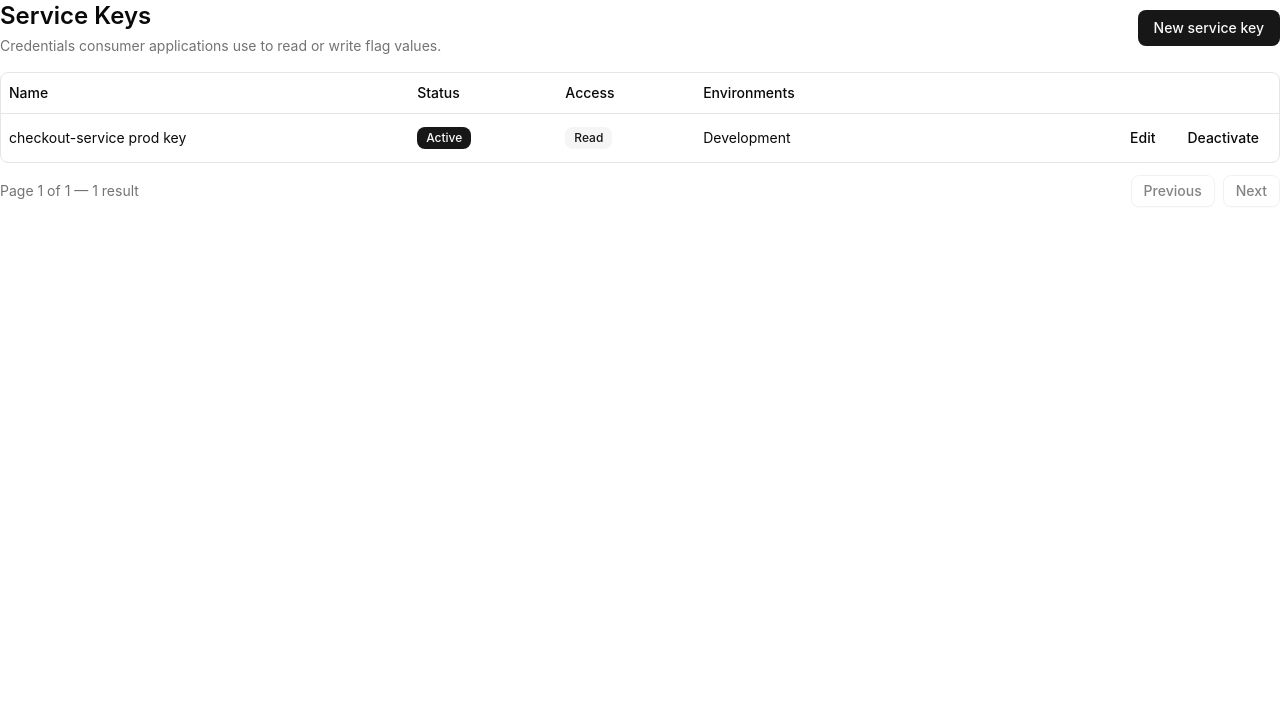
Test: ServiceKeysPage › opens the create form from "New service key" and the edit form from a row's Edit button
Step 1. Click the button "New service key" → (1209, 28), box [1138,10,1279,46]
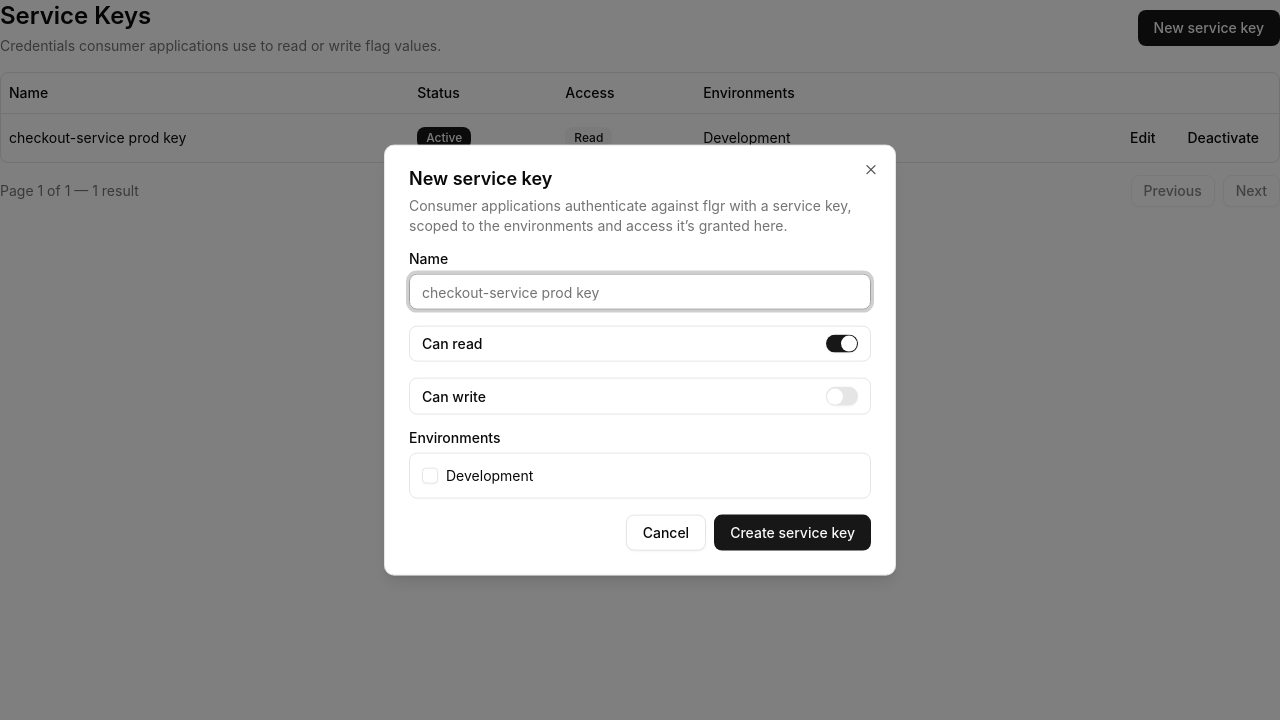
Now the heading "New service key" is shown, box [409,168,552,189]
Step 2. Click the button "Cancel" → (666, 532), box [626,514,706,550]
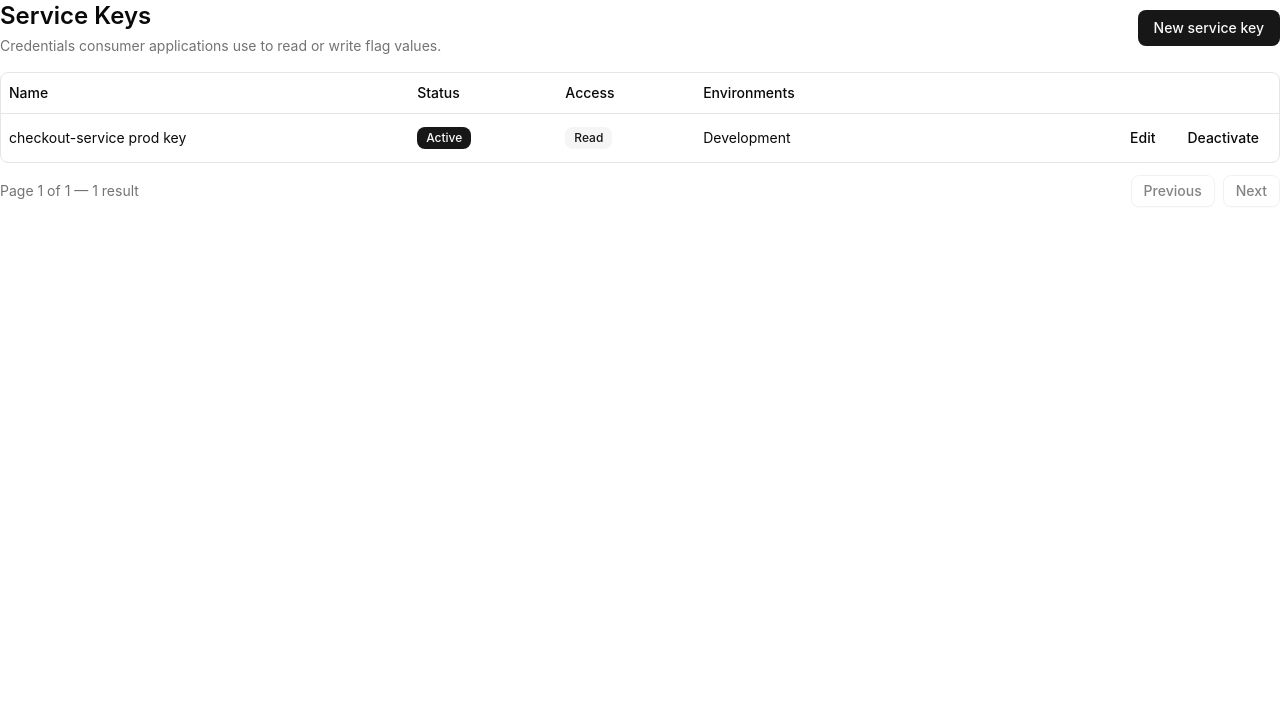
Expected: the text "checkout-service prod key" is shown, [1,113,409,162]
Step 3. Click the button "Edit" → (1143, 138), box [1118,122,1168,154]
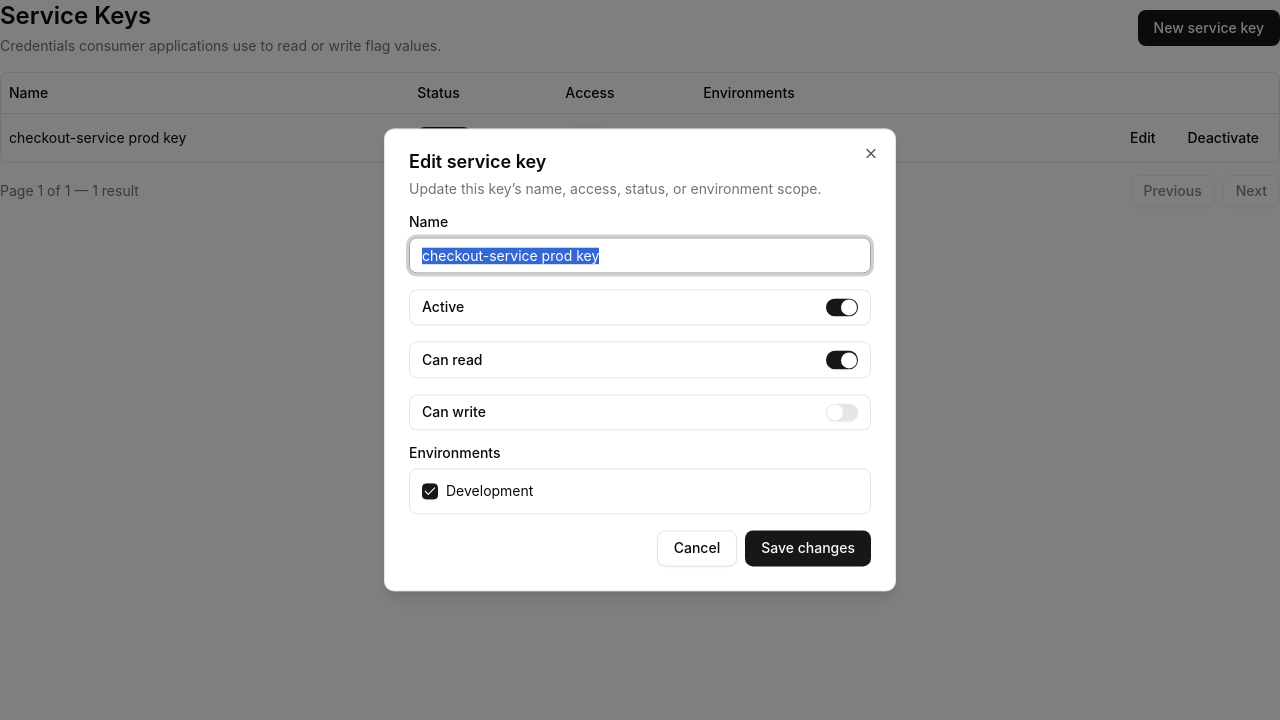
Now the heading "Edit service key" is shown, box [409,151,546,172]
Now the field showing "checkout-service prod key" is shown, box [409,237,871,273]
